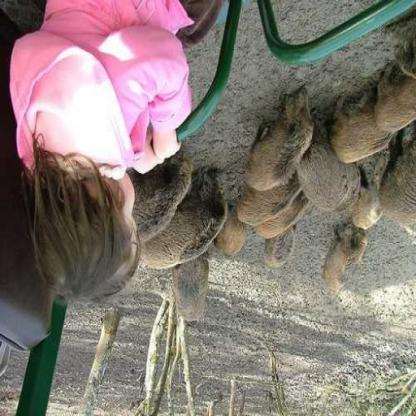boar: (134, 201, 214, 291), (249, 96, 302, 194), (142, 160, 202, 238), (296, 151, 349, 238), (323, 230, 368, 306), (322, 114, 380, 172), (255, 196, 304, 254), (377, 66, 415, 140), (389, 152, 415, 249), (238, 190, 284, 240), (257, 232, 296, 288), (230, 209, 241, 277)
